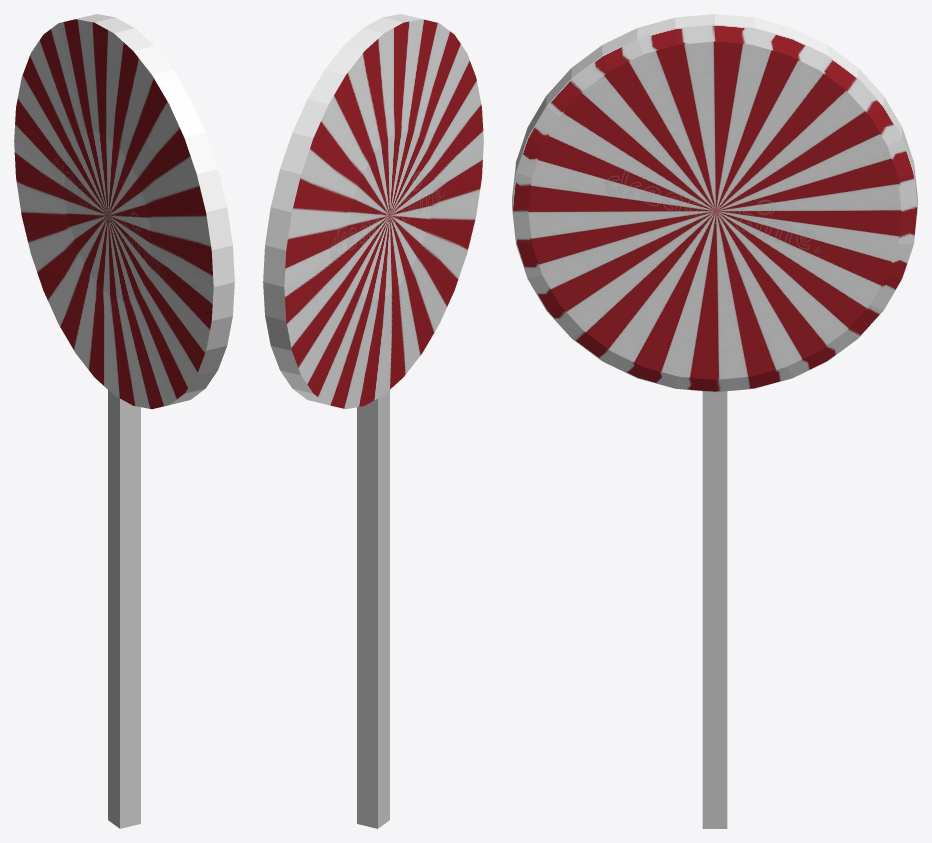
Rendered from PaletaDulche.fbx.
The picture shows the model from 3 angles, left to right: view 1: azimuth 30°, elevation 25°; view 2: azimuth 150°, elevation 25°; view 3: azimuth 270°, elevation 25°; orthographic projection.
Visible parts, largest first — view 1: Cylinder, Cube; view 2: Cylinder, Cube; view 3: Cylinder, Cube.
Boxes of the visible parts, x1,y1,x2,y2 form: Cylinder: (14, 14, 234, 409); Cube: (108, 390, 140, 828); Cylinder: (263, 14, 483, 409); Cube: (357, 390, 389, 828); Cylinder: (512, 14, 917, 392); Cube: (702, 391, 727, 828).
Size of the model in its own units: 45.73 by 1094 by 500.
Materials: 1 (1 with a texture image).
